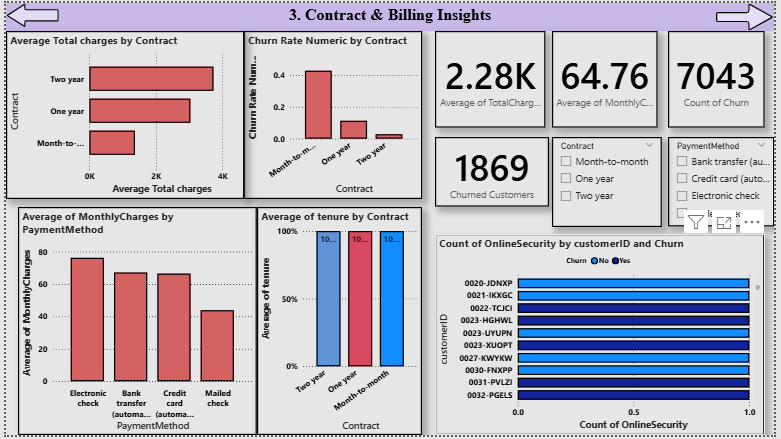

The dashboard page shown, as its layout file describes it:
{"tool":"powerbi","page":{"name":"Page 3","canvas":[1280,720],"ordinal":2},"visuals":[{"type":"textbox","box":[0,0,1280.5,46.8],"z":0},{"type":"columnChart","fields":{"Category":["cca data set.Contract"],"Y":["cca data set.Churn Rate Numeric"]},"box":[396.6,46.8,297.1,279.5],"z":1000},{"type":"barChart","fields":{"Category":["cca data set.Contract"],"Y":["cca data set.Average Total charges"]},"box":[0,46.7,396.7,280],"z":3000},{"type":"clusteredColumnChart","fields":{"Category":["cca data set.PaymentMethod"],"Y":["Avg(cca data set.MonthlyCharges)"]},"box":[20.5,339.5,398,380.5],"z":4000},{"type":"card","fields":{"Values":["cca data set.Churned Customers"]},"box":[715.6,223.9,190.2,115.6],"z":5000},{"type":"card","fields":{"Values":["CountNonNull(cca data set.Churn)"]},"box":[1103.4,46.8,161,161],"z":6000},{"type":"card","fields":{"Values":["Avg(cca data set.TotalCharges)"]},"box":[715.6,46.8,184.4,161],"z":7000},{"type":"card","fields":{"Values":["Avg(cca data set.MonthlyCharges)"]},"box":[910.2,46.8,175.6,161],"z":8000},{"type":"slicer","fields":{"Values":["cca data set.PaymentMethod"]},"box":[1103.4,223.9,177.1,149.3],"z":9000},{"type":"slicer","fields":{"Values":["cca data set.Contract"]},"box":[910,223.3,183.3,150],"z":10000},{"type":"hundredPercentStackedColumnChart","fields":{"Category":["cca data set.Contract"],"Y":["Avg(cca data set.tenure)"]},"box":[418.5,339.5,275.1,380.5],"z":11000},{"type":"barChart","fields":{"Category":["cca data set.customerID"],"Y":["CountNonNull(cca data set.OnlineSecurity)"],"Series":["cca data set.Churn"]},"box":[715.6,384.9,548.8,335.1],"z":12000},{"type":"shape","box":[1183.9,0,96.6,46.8],"z":13000},{"type":"shape","box":[0,0,87.8,41],"z":14000}]}

Visuals, with their boxes in screenshot pixels (x1, y1, x2, y2), scaled from the page's 1280x720 canvas onto the 781x439 screenshot:
textbox: 0, 0, 780, 29
columnChart - cca data set.Contract x cca data set.Churn Rate Numeric: 242, 29, 423, 199
barChart - cca data set.Contract x cca data set.Average Total charges: 0, 28, 242, 199
clusteredColumnChart - cca data set.PaymentMethod x Avg(cca data set.MonthlyCharges): 13, 207, 255, 438
card - cca data set.Churned Customers: 437, 137, 553, 207
card - CountNonNull(cca data set.Churn): 673, 29, 771, 127
card - Avg(cca data set.TotalCharges): 437, 29, 549, 127
card - Avg(cca data set.MonthlyCharges): 555, 29, 663, 127
slicer - cca data set.PaymentMethod: 673, 137, 780, 228
slicer - cca data set.Contract: 555, 136, 667, 228
hundredPercentStackedColumnChart - cca data set.Contract x Avg(cca data set.tenure): 255, 207, 423, 438
barChart - cca data set.customerID x CountNonNull(cca data set.OnlineSecurity): 437, 235, 771, 438
shape: 722, 0, 780, 29
shape: 0, 0, 54, 25
